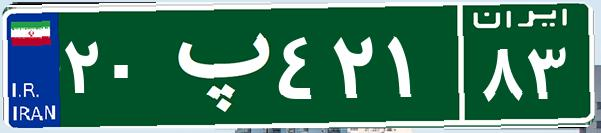0: (110, 28, 158, 105)
1: (385, 28, 445, 110)
2: (330, 28, 385, 110), (57, 26, 110, 107)
3: (525, 38, 570, 115)
4: (273, 28, 330, 110)
8: (475, 38, 525, 113)
پ: (158, 15, 273, 115)
